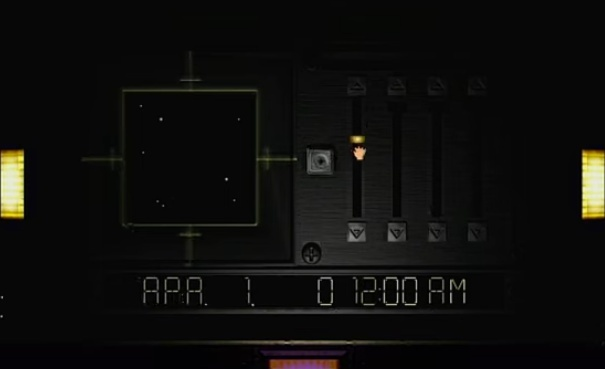Hold: (349, 142, 368, 164)
